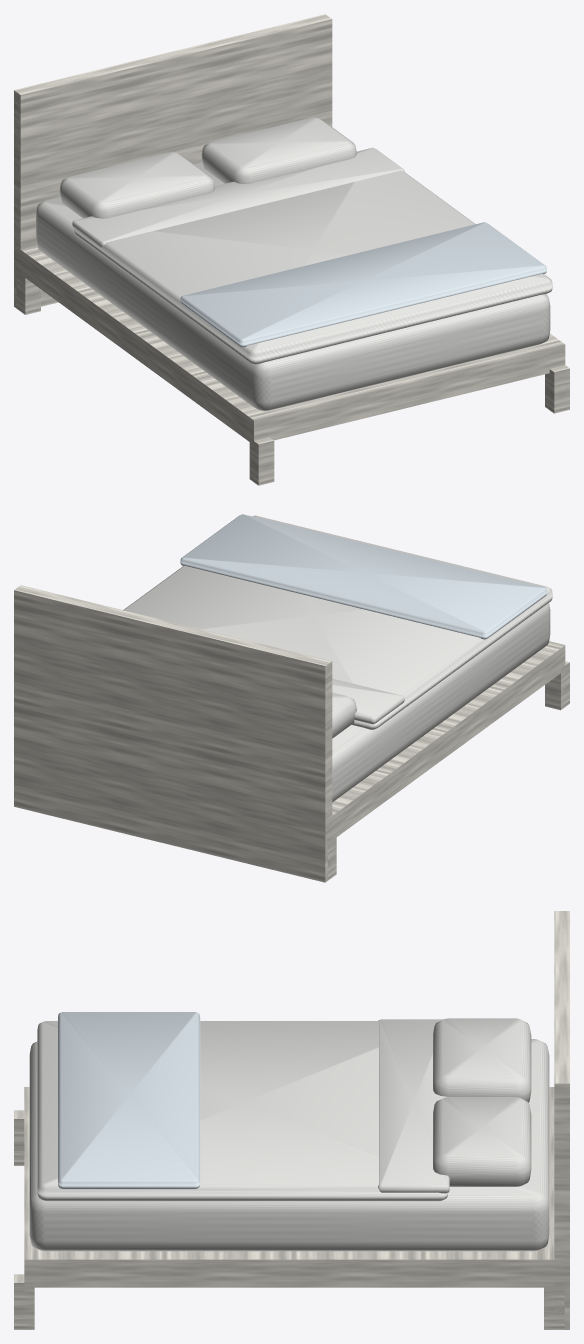
The model's file is bed_white.glb.
3 renders of one model, top to bottom at view 1: azimuth 30°, elevation 25°; view 2: azimuth 150°, elevation 25°; view 3: azimuth 270°, elevation 25°, orthographic. The views are drawn at different scales.
Visible parts, largest first — view 1: Bed; view 2: Bed; view 3: Bed.
Part boxes in pixels (left/top/right/bottom): Bed: left=14, top=14, right=569, bottom=485; Bed: left=14, top=514, right=569, bottom=882; Bed: left=14, top=911, right=569, bottom=1329.
Size of the model in its own units: 1.58 by 1.05 by 2.15.
4 materials, 3 textured.
